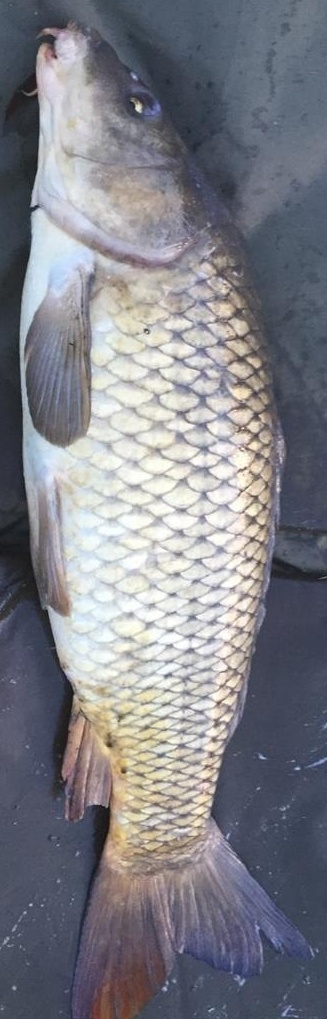Cyprinus carpio: (20, 20, 307, 1019)
